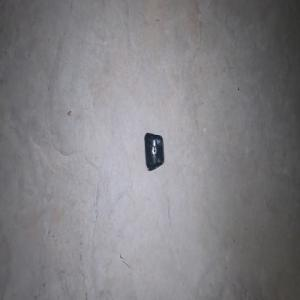LuggagePart: (143, 131, 164, 171)
